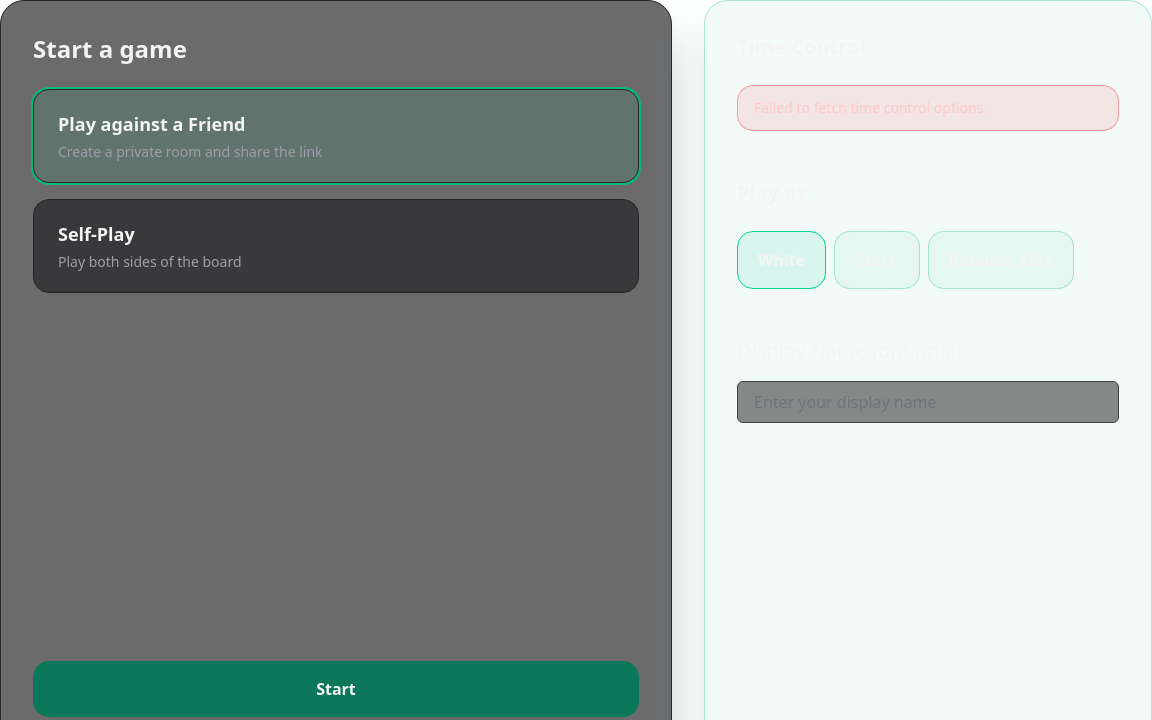
Test case: GameRoomForm › Error Handling › displays error message when room creation fails: API error
Click Start to trigger room creation
What coordinates should you click on to do the following:
click the button "Start"
I would click on:
 (336, 689)
Its box is [33,661,639,717].
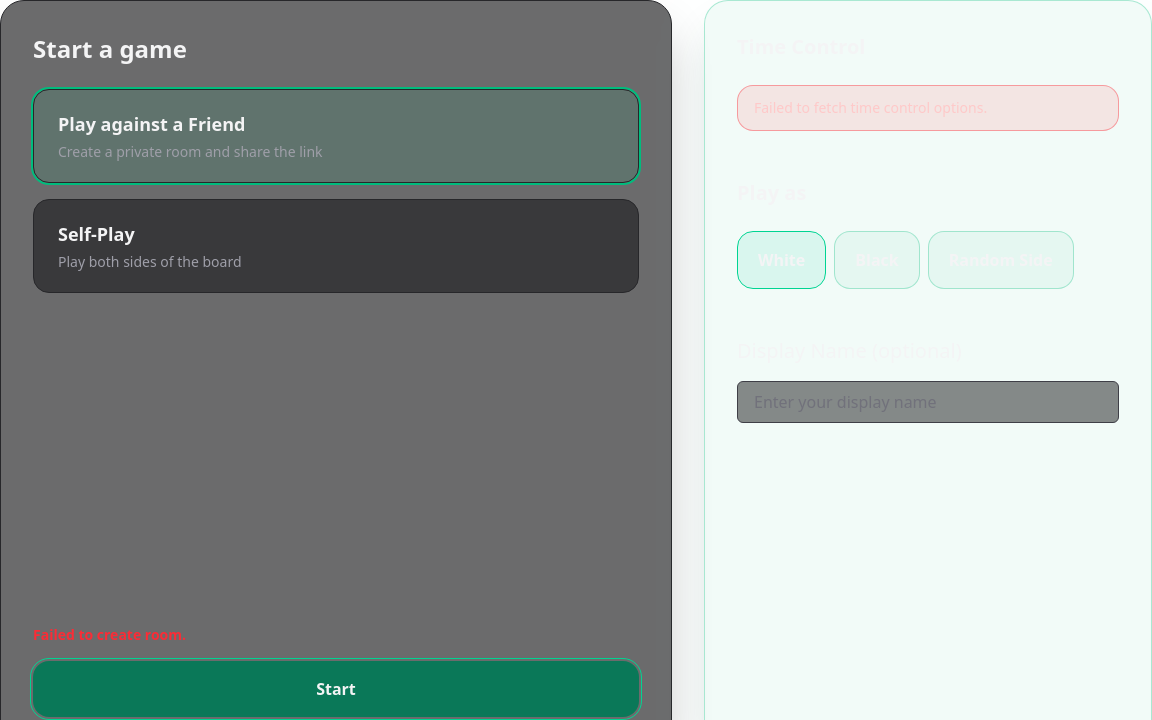
Now the message "Failed to create room." is shown, box [33,625,186,644]
